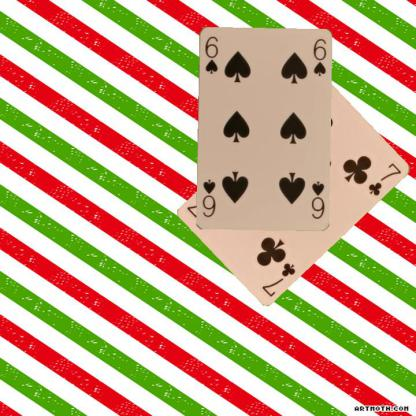6s: (308, 178, 326, 220), (202, 34, 219, 74)
7c: (259, 260, 297, 298)
